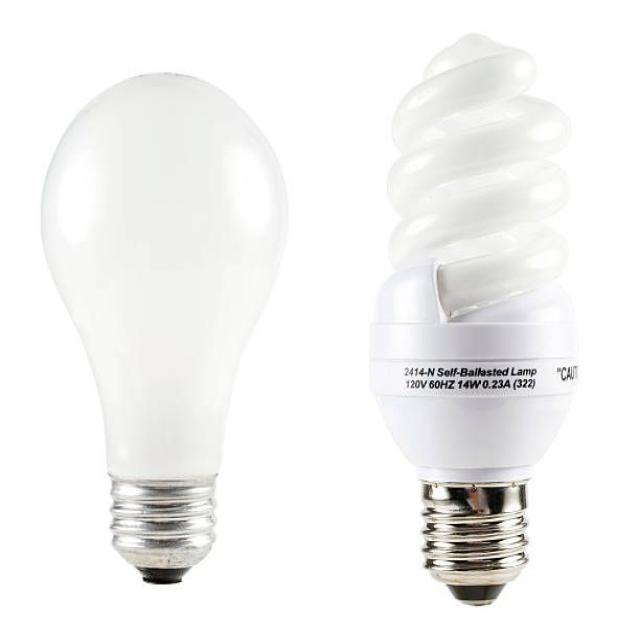electronic: (38, 69, 290, 584), (368, 30, 579, 606)
